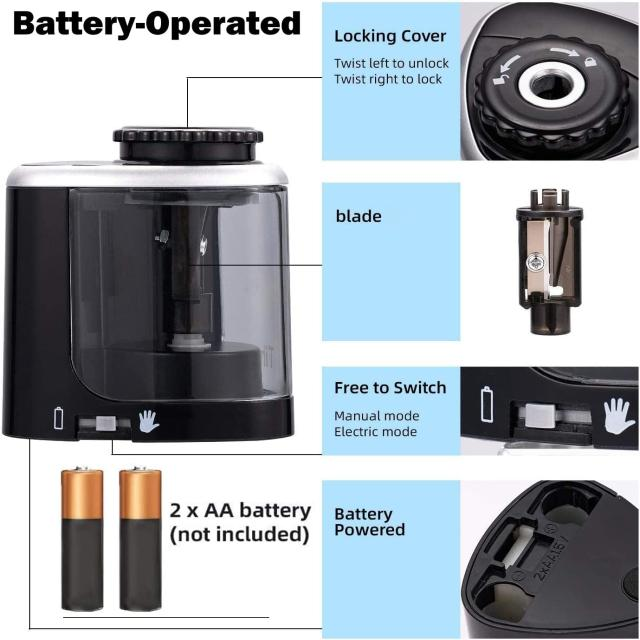pencil_sharpener: (0, 78, 301, 444)
